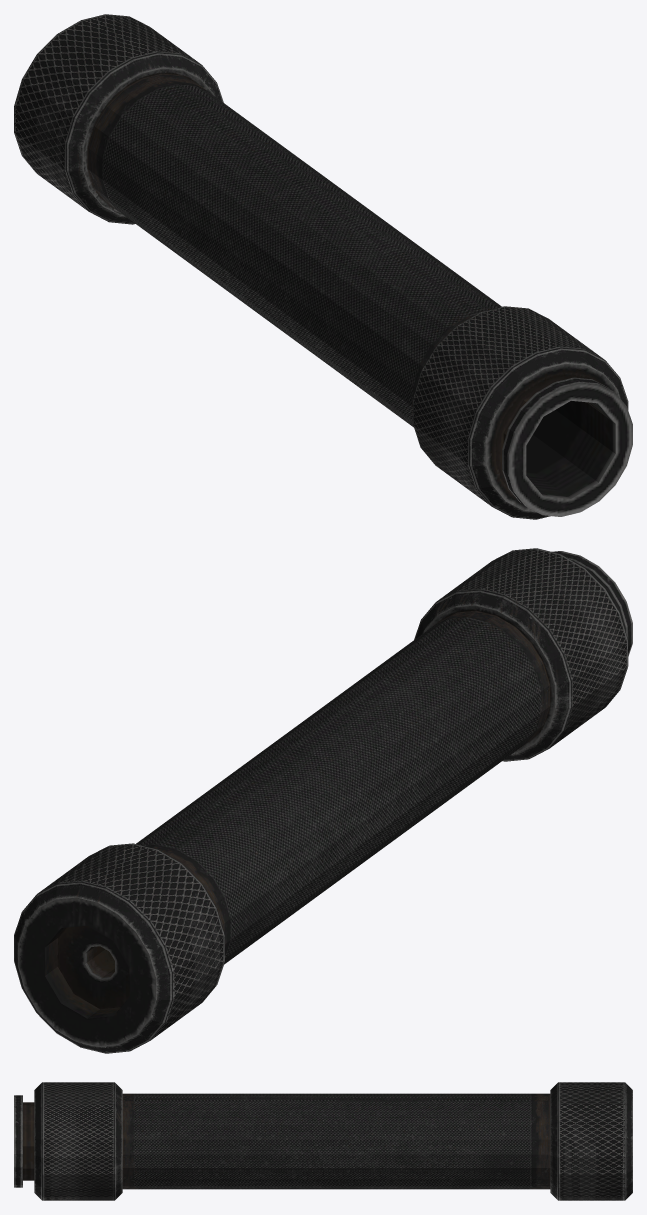
The picture shows the model from 3 angles, top to bottom: view 1: azimuth 30°, elevation 25°; view 2: azimuth 150°, elevation 25°; view 3: azimuth 270°, elevation 25°; orthographic projection. The views are drawn at different scales.
Visible parts, largest first — view 1: TW_564caa3d4bdc2d17108b458e_PZ_Import; view 2: TW_564caa3d4bdc2d17108b458e_PZ_Import; view 3: TW_564caa3d4bdc2d17108b458e_PZ_Import.
Boxes of the visible parts, x1,y1,x2,y2 form: TW_564caa3d4bdc2d17108b458e_PZ_Import: (14,14,632,519); TW_564caa3d4bdc2d17108b458e_PZ_Import: (14,548,632,1053); TW_564caa3d4bdc2d17108b458e_PZ_Import: (14,1082,632,1200).
Size of the model in its own units: 0.0228 by 0.1206 by 0.0228.
Materials: 1 (1 with a texture image).
